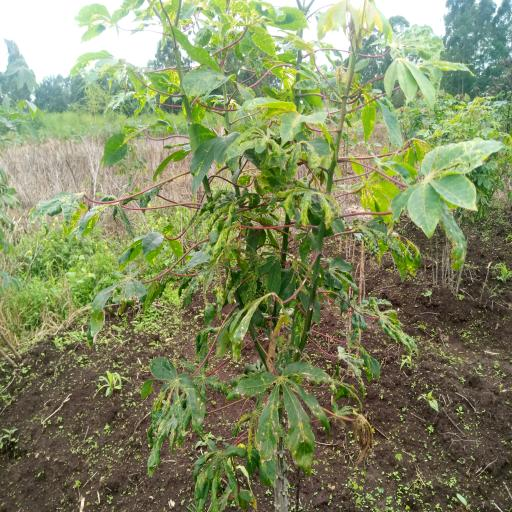Cassava_Mosaic: (234, 362, 340, 478), (414, 142, 485, 250), (147, 351, 208, 442), (187, 437, 252, 502)
